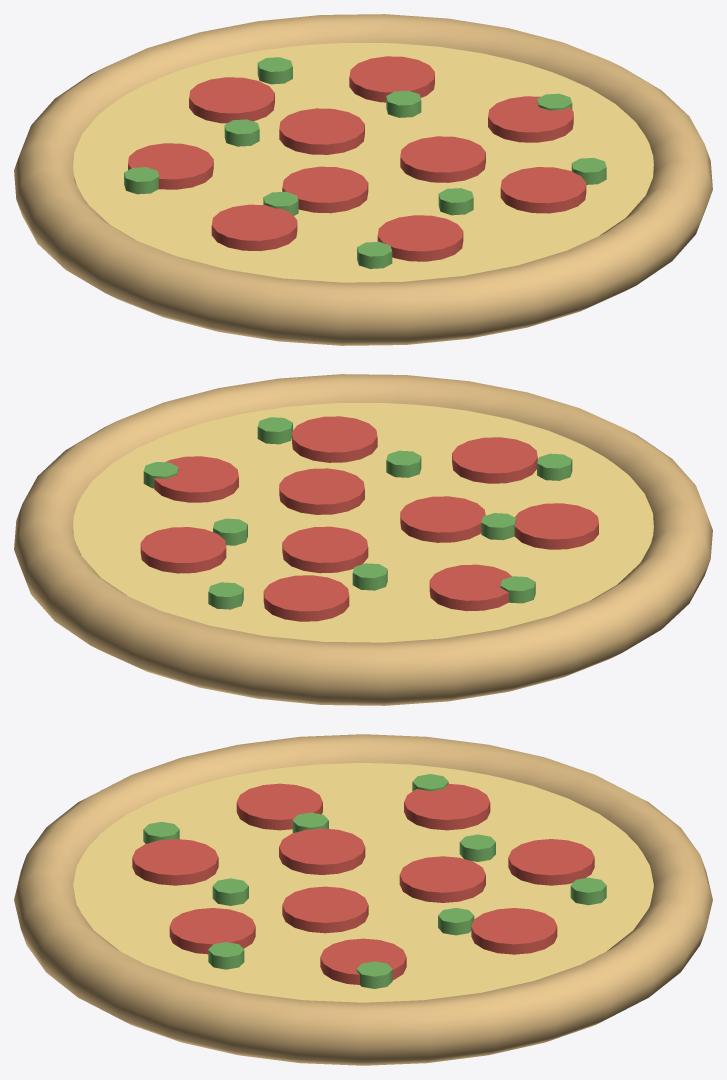
File: pizza.glb
3 views of the same model, one above another, from view 1: azimuth 30°, elevation 25°; view 2: azimuth 150°, elevation 25°; view 3: azimuth 270°, elevation 25° (orthographic).
Parts seen in each view (by area): view 1: Pizza; view 2: Pizza; view 3: Pizza.
Part boxes in pixels (box(x1,y1,x2,y2)): Pizza: box(14, 14, 712, 345); Pizza: box(14, 374, 712, 705); Pizza: box(14, 734, 712, 1065).
Bounding box in the file's own units: 0.308 × 0.0273 × 0.308.
